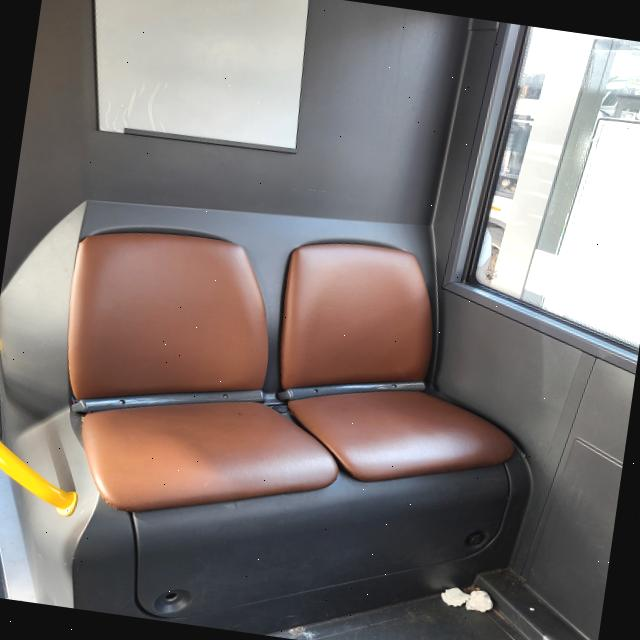empty-seat-frontal: (29, 209, 368, 541), (258, 219, 549, 506)
